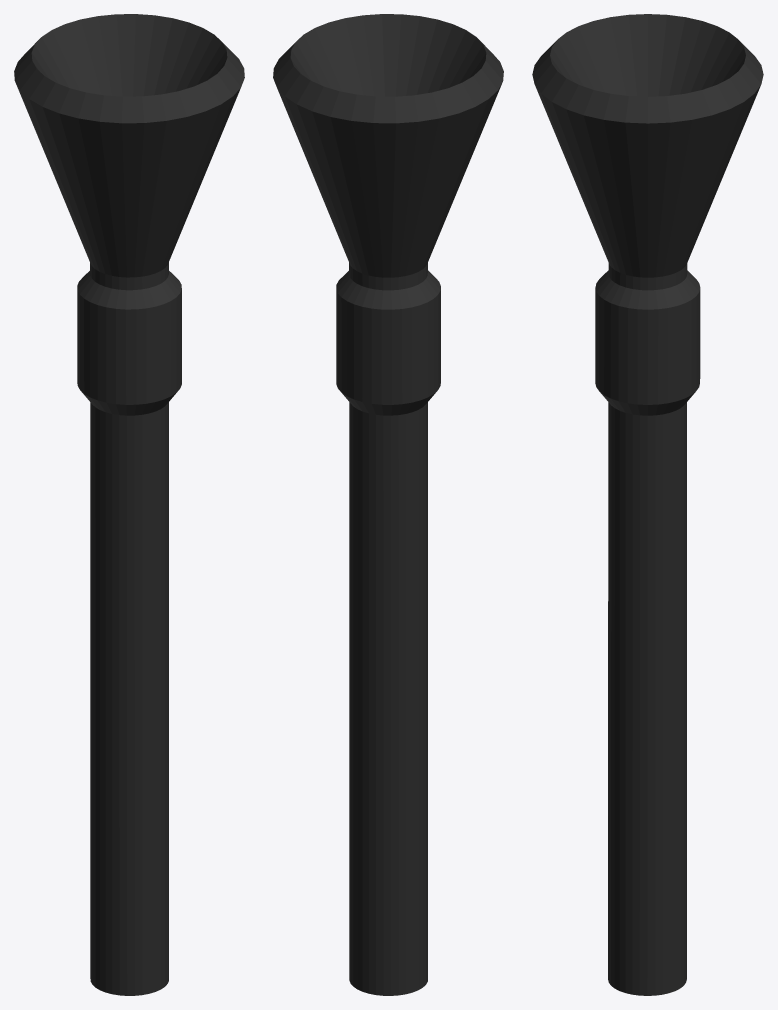
Rendered from torch.obj.
3 renders of one model, left to right at view 1: azimuth 30°, elevation 25°; view 2: azimuth 150°, elevation 25°; view 3: azimuth 270°, elevation 25°, orthographic.
Visible parts, largest first — view 1: torch.012; view 2: torch.012; view 3: torch.012.
Boxes of the visible parts, bbox=[...] form: torch.012: bbox=[14, 14, 244, 995]; torch.012: bbox=[273, 14, 503, 995]; torch.012: bbox=[532, 14, 763, 995].
Bounding box in the file's own units: 1.64 × 7.22 × 1.64.
1 material, 1 textured.
